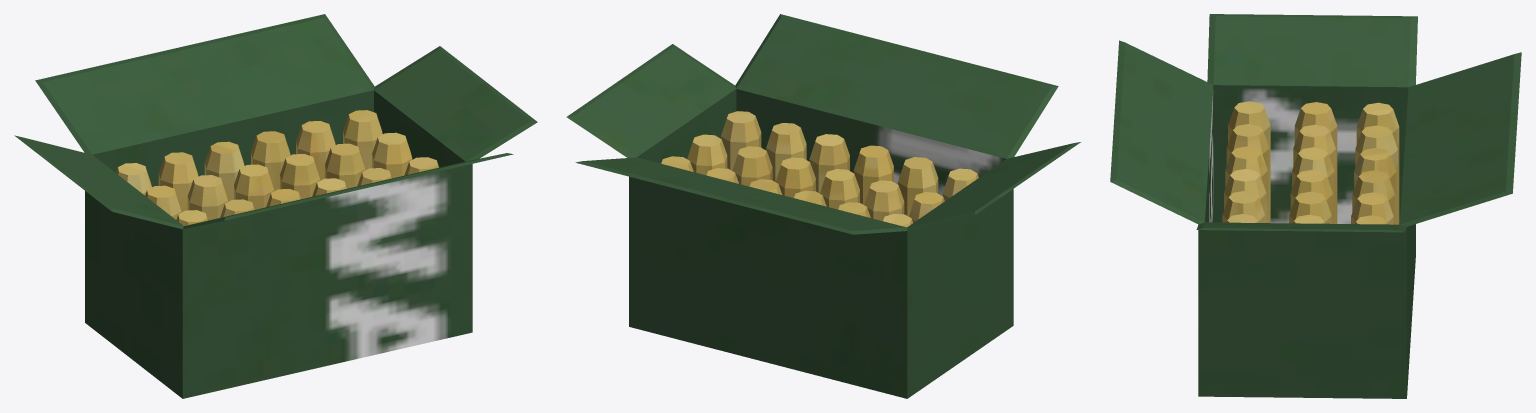
The model's file is pistol_ammo.glb.
The picture shows the model from 3 angles, left to right: view 1: azimuth 30°, elevation 25°; view 2: azimuth 150°, elevation 25°; view 3: azimuth 270°, elevation 25°; orthographic projection. The views are drawn at different scales.
Parts seen in each view (by area): view 1: Pistol Ammo Pickup; view 2: Pistol Ammo Pickup; view 3: Pistol Ammo Pickup.
Part boxes in pixels (bbox=[...]): Pistol Ammo Pickup: bbox=[14, 14, 537, 398]; Pistol Ammo Pickup: bbox=[566, 14, 1080, 398]; Pistol Ammo Pickup: bbox=[1110, 14, 1521, 398].
Bounding box in the file's own units: 0.00649 × 0.00308 × 0.00537.
2 materials, 2 textured.
